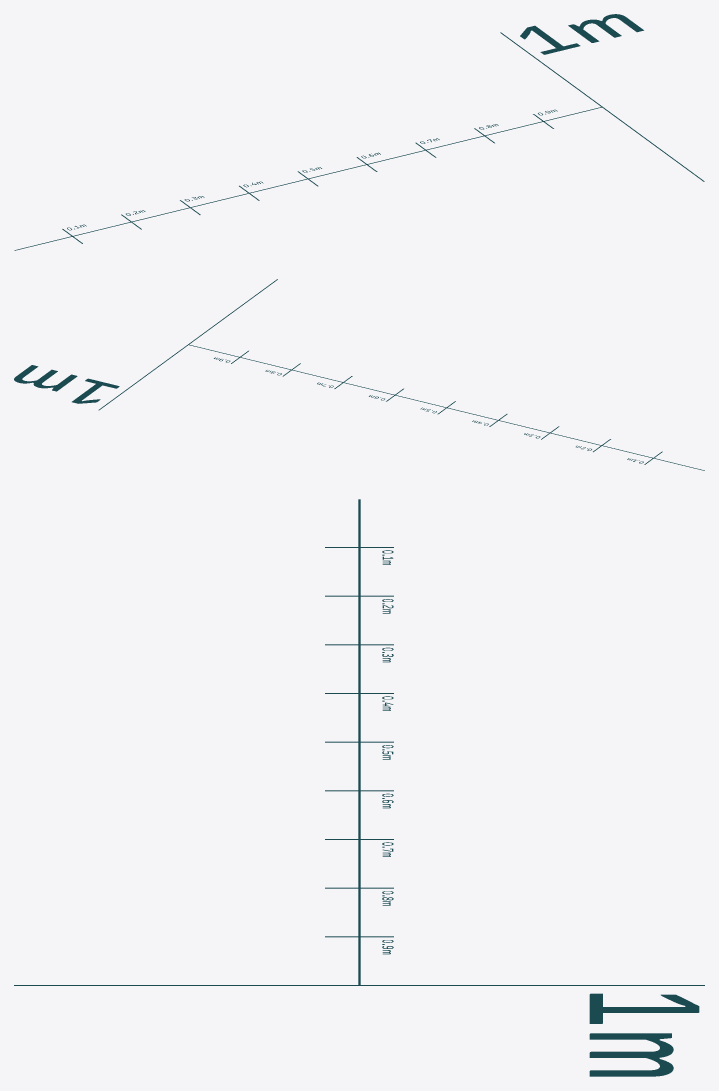
3 renders of one model, top to bottom at view 1: azimuth 30°, elevation 25°; view 2: azimuth 150°, elevation 25°; view 3: azimuth 270°, elevation 25°, orthographic. The views are drawn at different scales.
Parts seen in each view (by area): view 1: Text.009, Plane; view 2: Text.009, Plane; view 3: Text.009, Plane.
Boxes of the visible parts, x1,y1,x2,y2 form: Text.009: (520, 14, 643, 54); Plane: (14, 107, 602, 250); Text.009: (14, 365, 119, 403); Plane: (188, 344, 704, 470); Text.009: (589, 993, 699, 1076); Plane: (358, 499, 360, 985).
Size of the model in its own units: 11.86 by 0 by 6.
